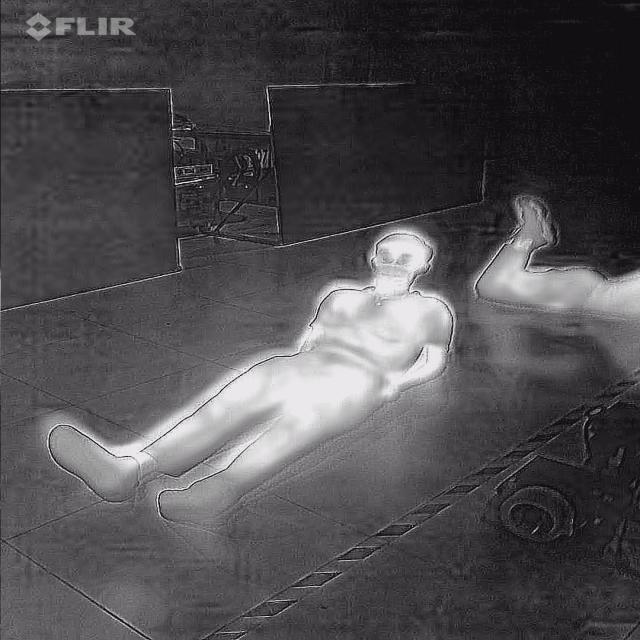Victim: (37, 221, 463, 542), (476, 196, 640, 323)
